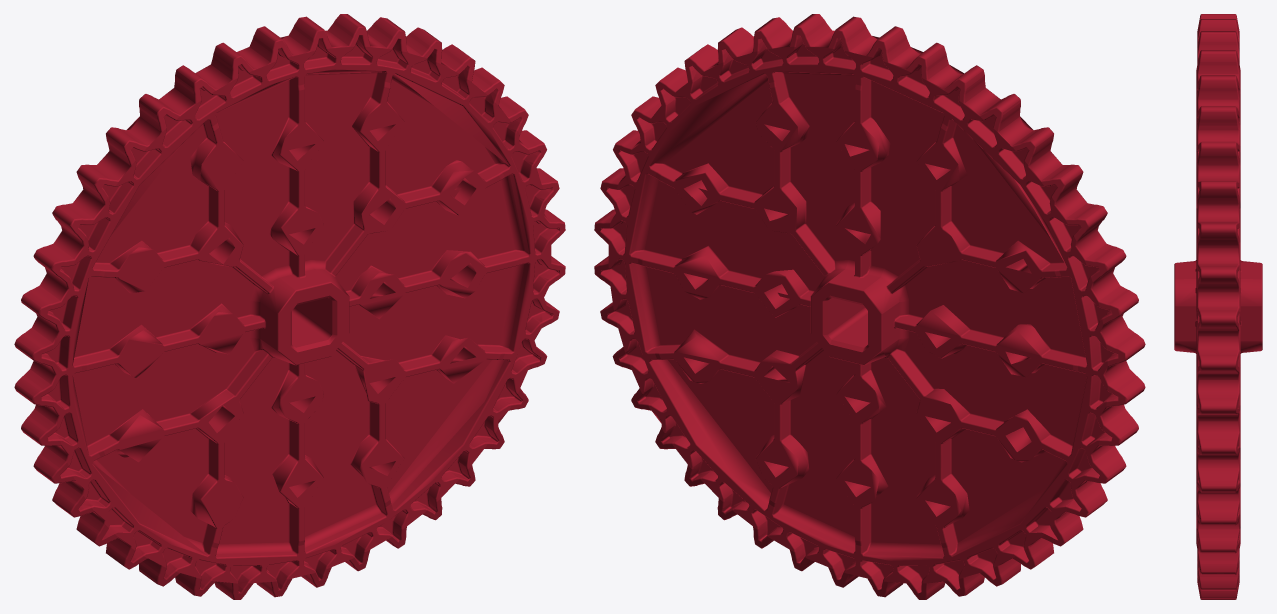
3 renders of one model, left to right at view 1: azimuth 30°, elevation 25°; view 2: azimuth 150°, elevation 25°; view 3: azimuth 270°, elevation 25°, orthographic. The views are drawn at different scales.
Parts seen in each view (by area): view 1: 276-8030-005 Rev2; view 2: 276-8030-005 Rev2; view 3: 276-8030-005 Rev2.
Boxes of the visible parts, x1,y1,x2,y2 form: 276-8030-005 Rev2: [14, 14, 565, 599]; 276-8030-005 Rev2: [594, 14, 1145, 599]; 276-8030-005 Rev2: [1174, 14, 1262, 599].
Bounding box in the file's own units: 84.24 × 84 × 12.7.
